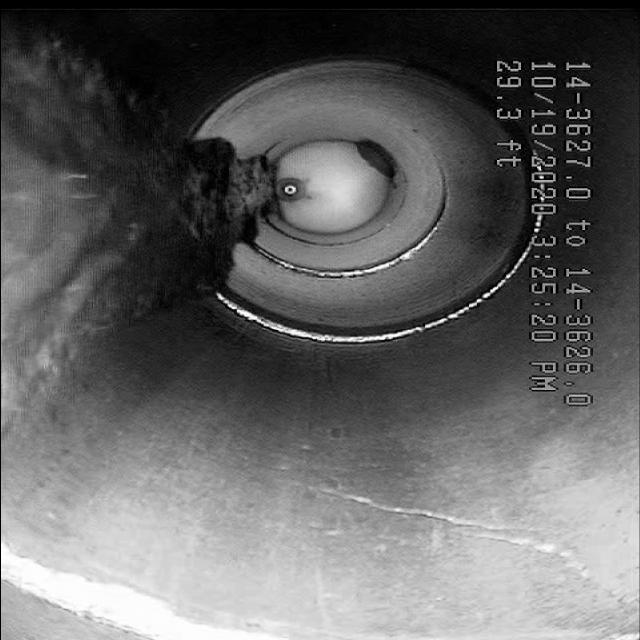Crack: (287, 478, 609, 586)
